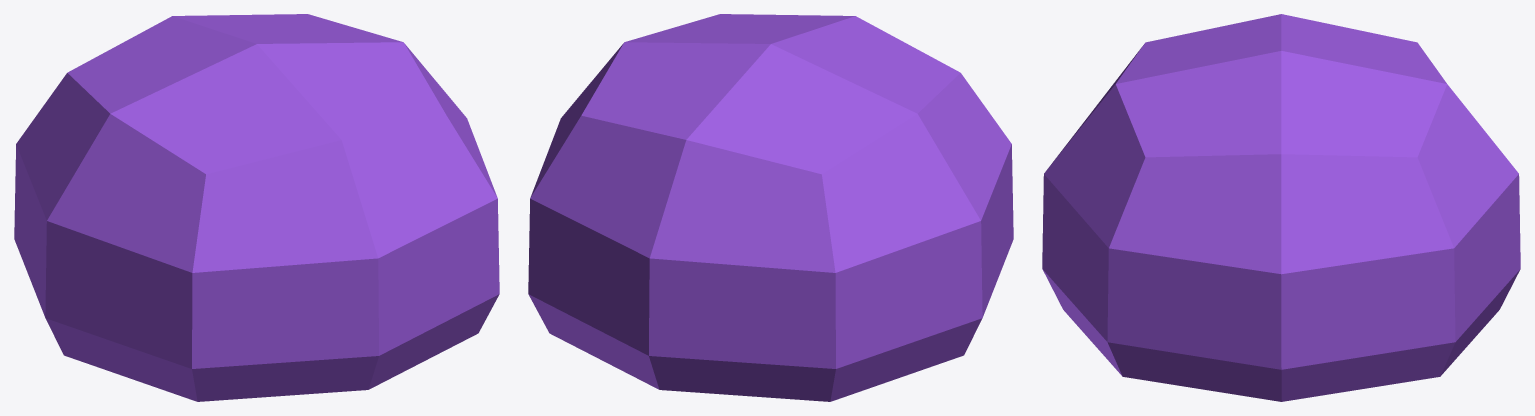
Rendered from chapeu_3.fbx.
The picture shows the model from 3 angles, left to right: view 1: azimuth 30°, elevation 25°; view 2: azimuth 150°, elevation 25°; view 3: azimuth 270°, elevation 25°; orthographic projection. The views are drawn at different scales.
Parts seen in each view (by area): view 1: chapeu 3; view 2: chapeu 3; view 3: chapeu 3.
Part boxes in pixels (x1,y1,x2,y2): chapeu 3: (14, 14, 499, 401); chapeu 3: (528, 14, 1013, 401); chapeu 3: (1042, 14, 1520, 401).
Bounding box in the file's own units: 196 × 117 × 196.
